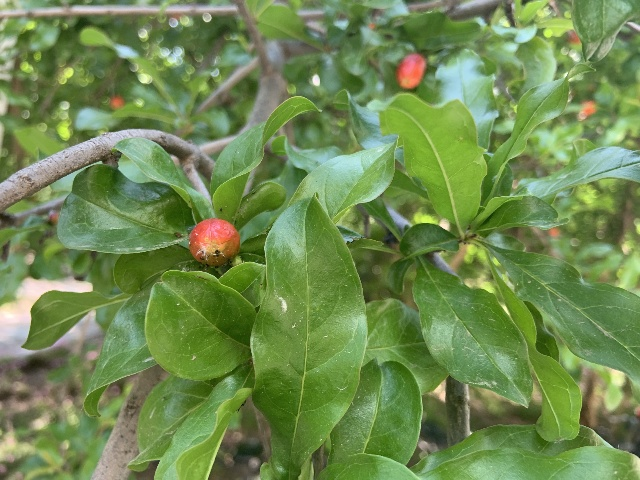bud: (189, 217, 240, 267), (395, 53, 426, 89)
